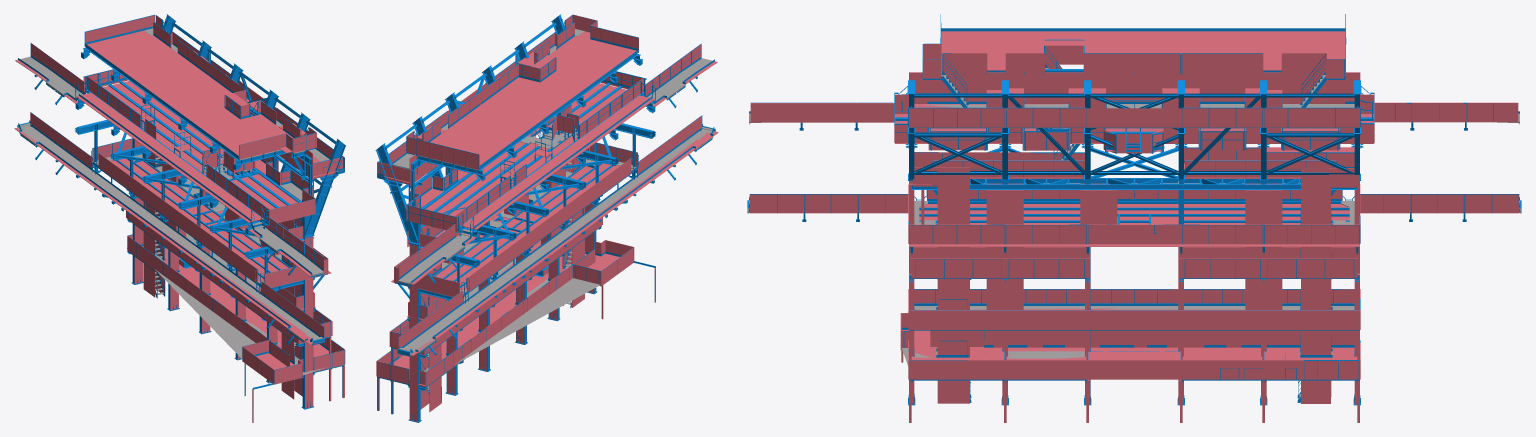
Rendered from HS USA15 Side.fbx.
3 renders of one model, left to right at view 1: azimuth 30°, elevation 25°; view 2: azimuth 150°, elevation 25°; view 3: azimuth 270°, elevation 25°, orthographic. The views are drawn at different scales.
Visible parts, largest first — view 1: !HS USA15 Platforms, USA Side Floor 8, USA Side handrail.033, USA Side Floor 4.001, USA Side Floor 6.004, USA Side handrail.015, USA Side Floor 8.003, USA Side Floor 6.009, USA Side Floor 4.005, USA Side handrail.023, USA Side Floor 1.001, USA Side Beam .010 (+28 smaller); view 2: !HS USA15 Platforms, USA Side Floor 8, USA Side handrail.033, USA Side Floor 6.004, USA Side Floor 4.001, USA Side handrail.015, USA Side Floor 8.003, USA Side Floor 6.009, USA Side Floor 4.005, USA Side handrail.023, USA Side handrail.091, USA Side Floor 1.001 (+27 smaller); view 3: !HS USA15 Platforms, USA Side handrail.034, USA Side handrail.084, USA Side handrail.022, USA Side handrail.083, USA Side Floor 8, USA Side handrail.015, USA Side handrail.016, USA Side handrail.023, USA Side handrail.019, USA Side handrail.030, USA Side handrail.026 (+37 smaller).
Boxes of the visible parts, x1,y1,x2,y2 form: !HS USA15 Platforms: [17, 14, 345, 420]; USA Side Floor 8: [87, 35, 265, 155]; USA Side handrail.033: [98, 153, 257, 283]; USA Side Floor 4.001: [110, 158, 304, 287]; USA Side Floor 6.004: [76, 93, 262, 222]; USA Side handrail.015: [127, 235, 268, 342]; USA Side Floor 8.003: [125, 30, 231, 107]; USA Side Floor 6.009: [103, 84, 297, 222]; USA Side Floor 4.005: [14, 128, 324, 344]; USA Side handrail.023: [126, 211, 298, 343]; USA Side Floor 1.001: [165, 248, 317, 367]; USA Side Beam .010: [305, 236, 312, 408]; !HS USA15 Platforms: [375, 14, 715, 422]; USA Side Floor 8: [452, 41, 636, 167]; USA Side handrail.033: [467, 158, 631, 293]; USA Side Floor 6.004: [462, 95, 654, 229]; USA Side Floor 4.001: [419, 163, 619, 296]; USA Side handrail.015: [425, 265, 572, 386]; USA Side Floor 8.003: [430, 77, 539, 147]; USA Side Floor 6.009: [426, 87, 626, 230]; USA Side Floor 4.005: [410, 131, 718, 355]; USA Side handrail.023: [424, 217, 602, 355]; USA Side handrail.091: [407, 137, 478, 169]; USA Side Floor 1.001: [405, 251, 585, 379]; !HS USA15 Platforms: [747, 14, 1521, 405]; USA Side handrail.034: [909, 224, 1359, 244]; USA Side handrail.084: [909, 72, 1360, 106]; USA Side handrail.022: [908, 310, 1360, 329]; USA Side handrail.083: [909, 108, 1360, 127]; USA Side Floor 8: [941, 31, 1345, 56]; USA Side handrail.015: [984, 330, 1354, 347]; USA Side handrail.016: [937, 167, 969, 403]; USA Side handrail.023: [914, 289, 1354, 303]; USA Side handrail.019: [1301, 168, 1330, 403]; USA Side handrail.030: [1179, 258, 1357, 278]; USA Side handrail.026: [911, 258, 1089, 278].
Bounding box in the file's own units: 840 × 2118 × 4224.
